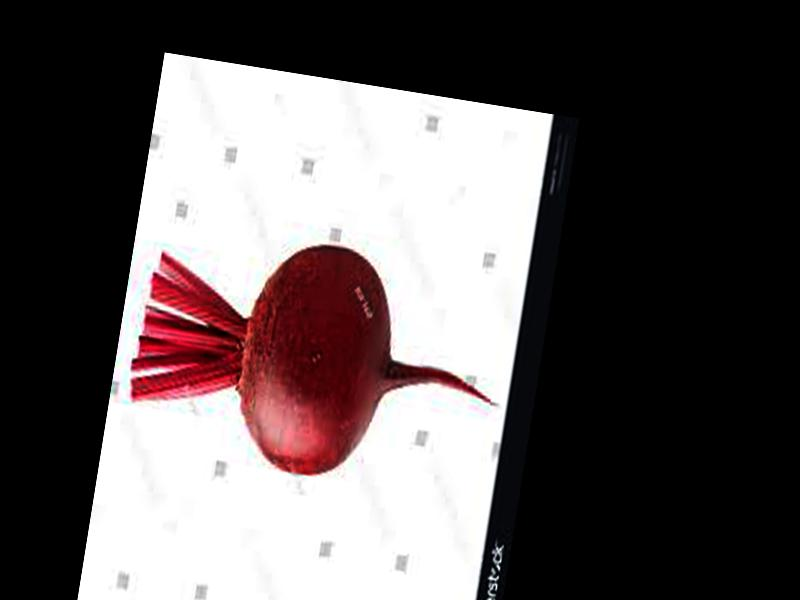Beet: (120, 218, 518, 502)
